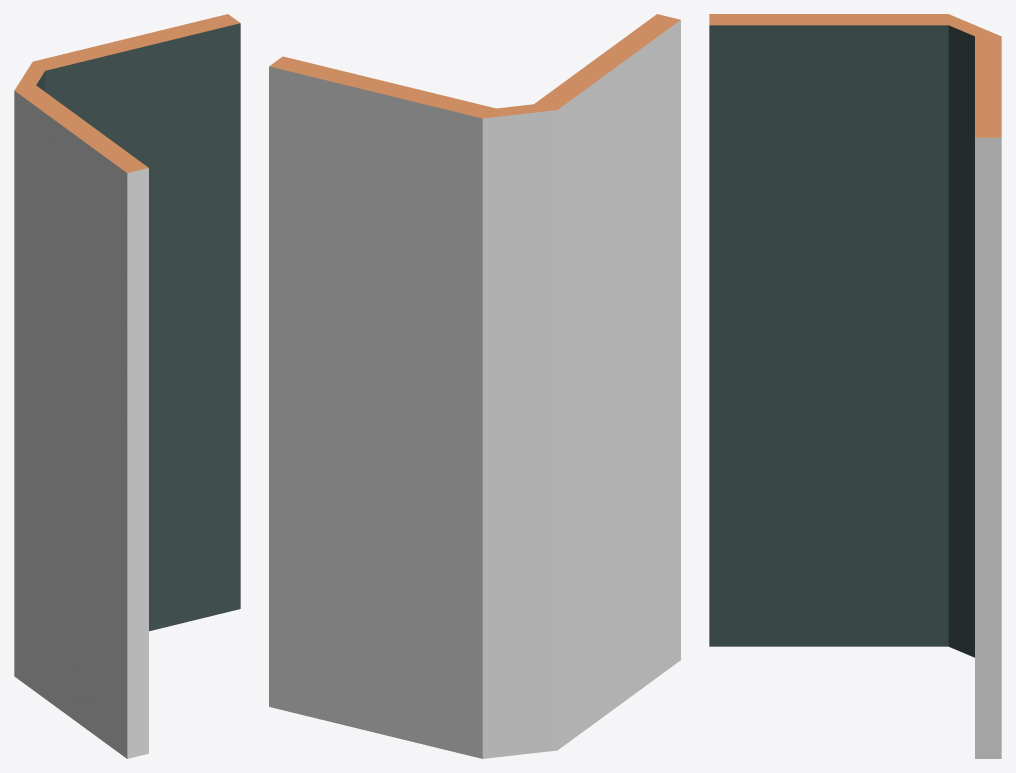
File: Wall Corner.fbx
The picture shows the model from 3 angles, left to right: view 1: azimuth 30°, elevation 25°; view 2: azimuth 150°, elevation 25°; view 3: azimuth 270°, elevation 25°; orthographic projection. The views are drawn at different scales.
Parts seen in each view (by area): view 1: wallCorner; view 2: wallCorner; view 3: wallCorner.
Part boxes in pixels (box(x1,y1,x2,y2)): wallCorner: box(14, 14, 240, 758); wallCorner: box(269, 14, 680, 758); wallCorner: box(709, 14, 1001, 758).
Bounding box in the file's own units: 5.5 × 12.9 × 5.5.
